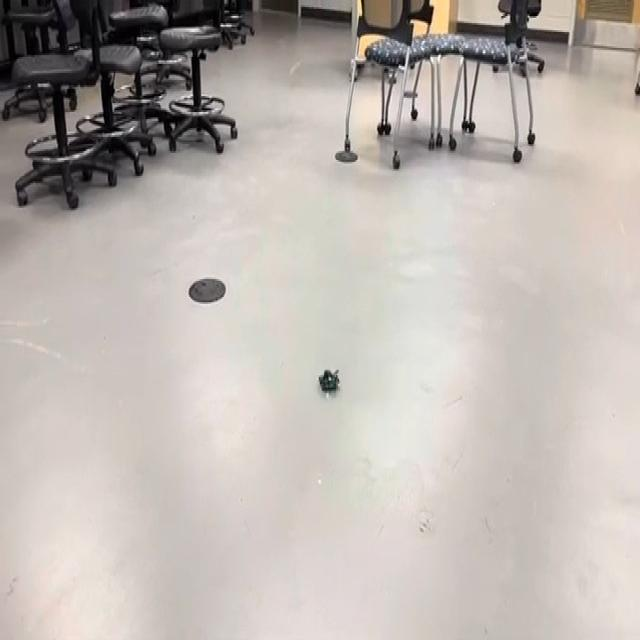drone: (312, 361, 347, 400)
